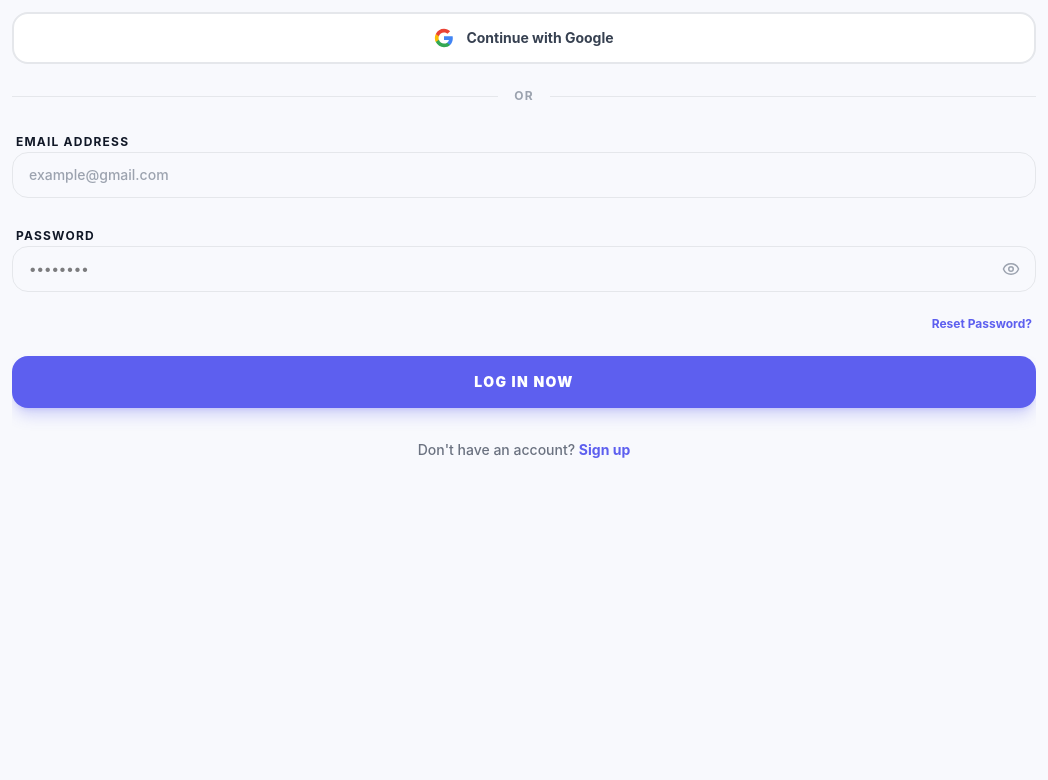
LoginForm › affiche un message d'erreur si les identifiants sont incorrects
Type "wrong@test.com" into the field with placeholder "example@gmail.com" at coordinates (524, 175), box [12, 152, 1036, 198]
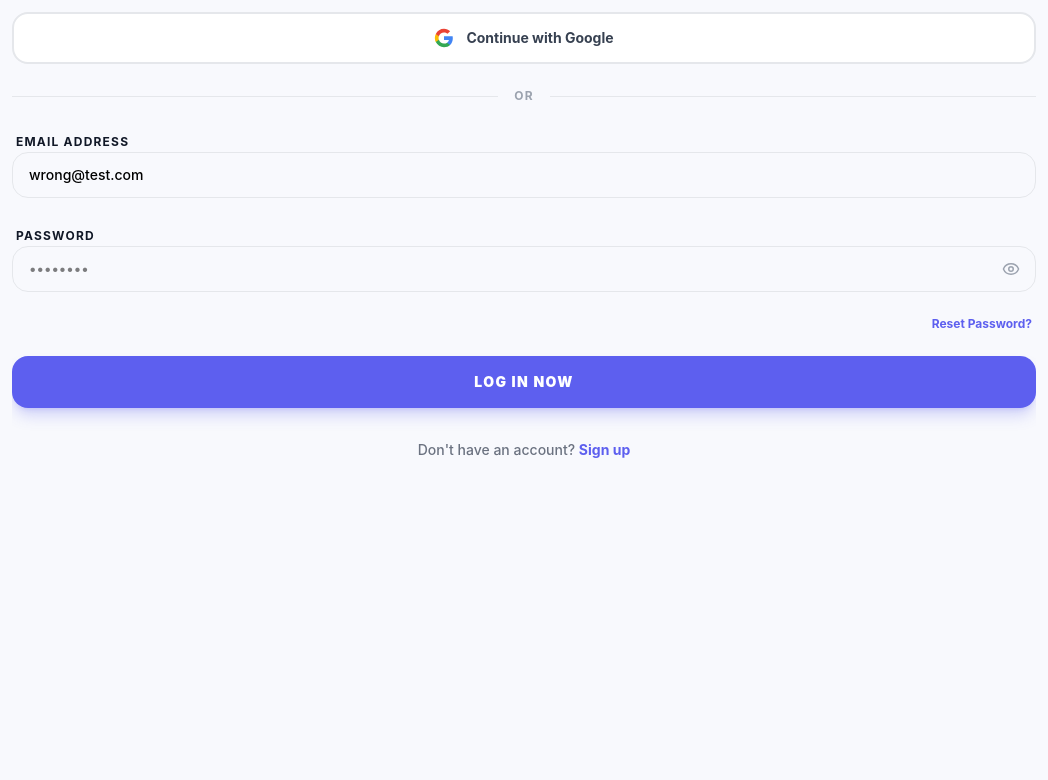
Type "password" into the password field with placeholder "••••••••" at coordinates (524, 269), box [12, 246, 1036, 292]
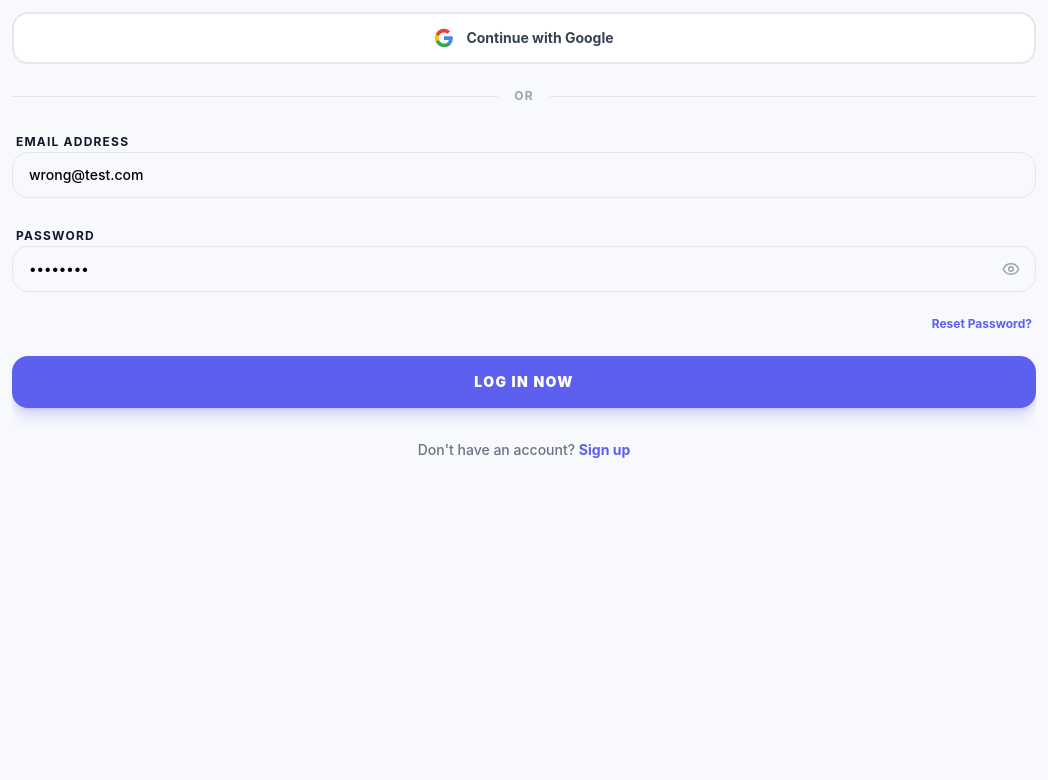
Submit the form "Email Address Password Reset Password? Log in Now", box [12, 128, 1036, 408]
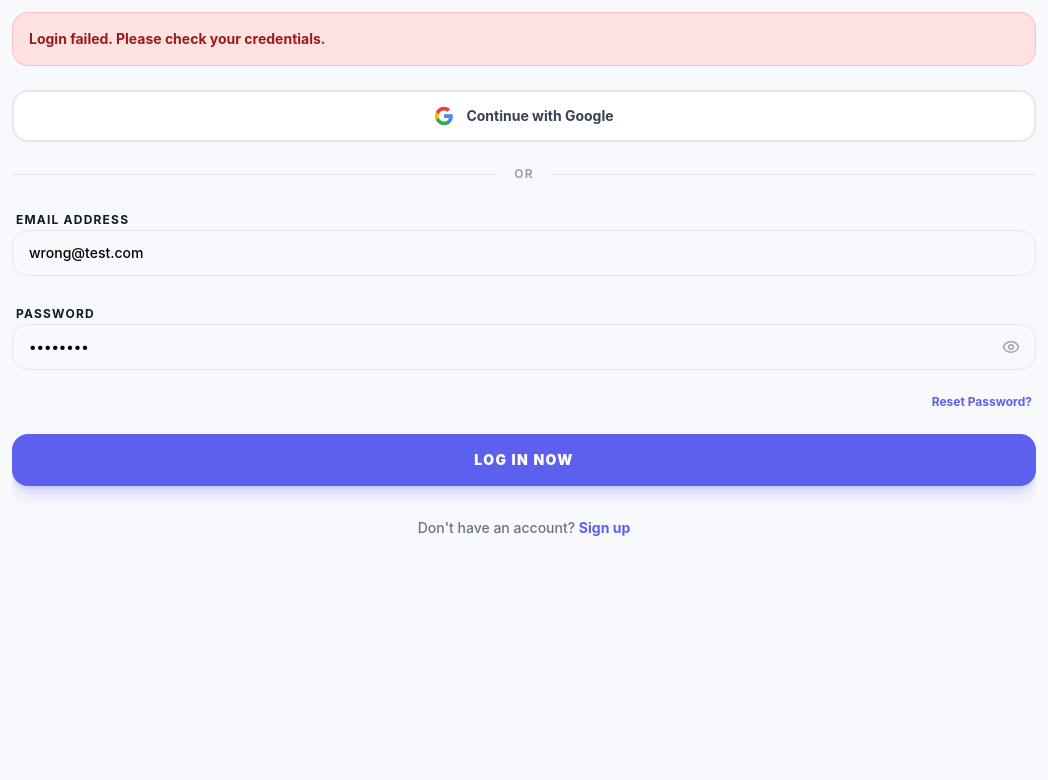
Now the text "Login failed. Please check your credentials." is shown, box [12, 12, 1036, 66]
